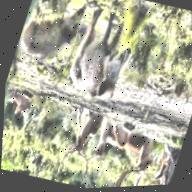boar: (66, 22, 144, 122), (22, 12, 92, 82)
